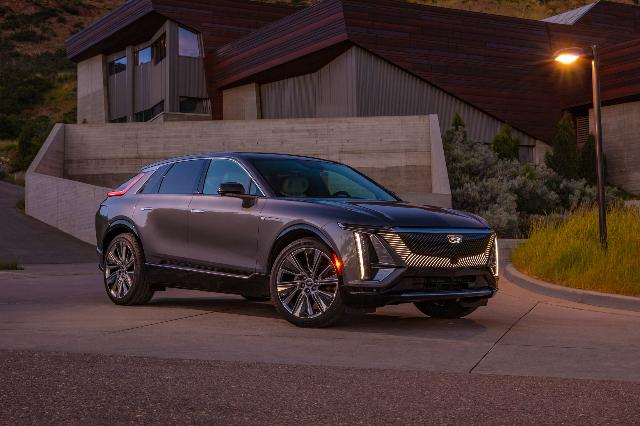cadillac: (94, 152, 498, 328)
